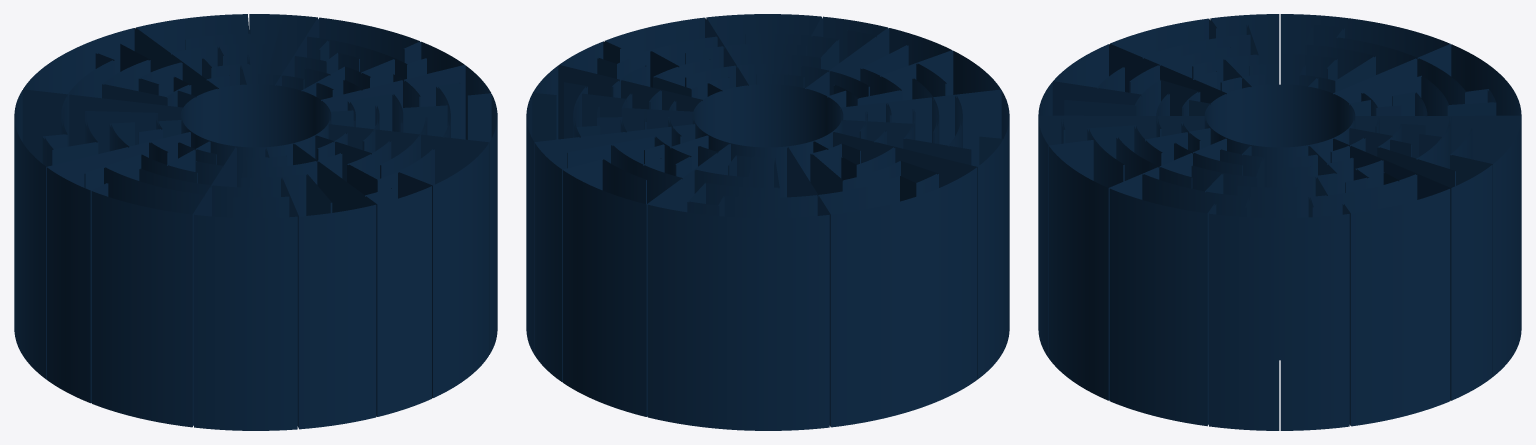
File: walls3.fbx
3 views of the same model, side by side, from view 1: azimuth 30°, elevation 25°; view 2: azimuth 150°, elevation 25°; view 3: azimuth 270°, elevation 25° (orthographic).
Visible parts, largest first — view 1: walls; view 2: walls; view 3: walls.
Boxes of the visible parts, x1,y1,x2,y2 form: walls: (14,14,497,430); walls: (526,14,1009,430); walls: (1038,14,1521,430).
Bounding box in the file's own units: 21812 × 21812 × 10599.
